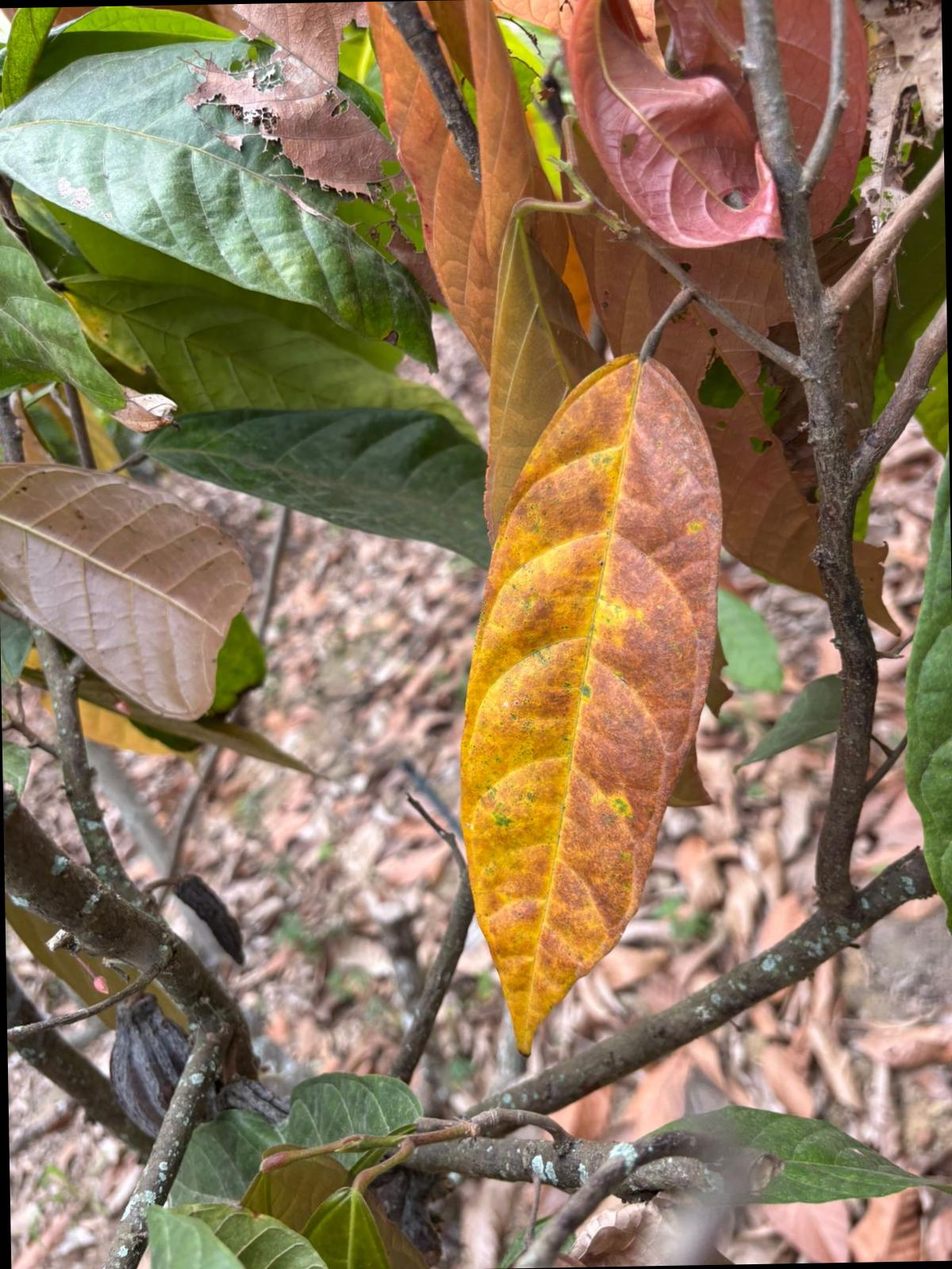Fosforo: (461, 356, 720, 1052)
